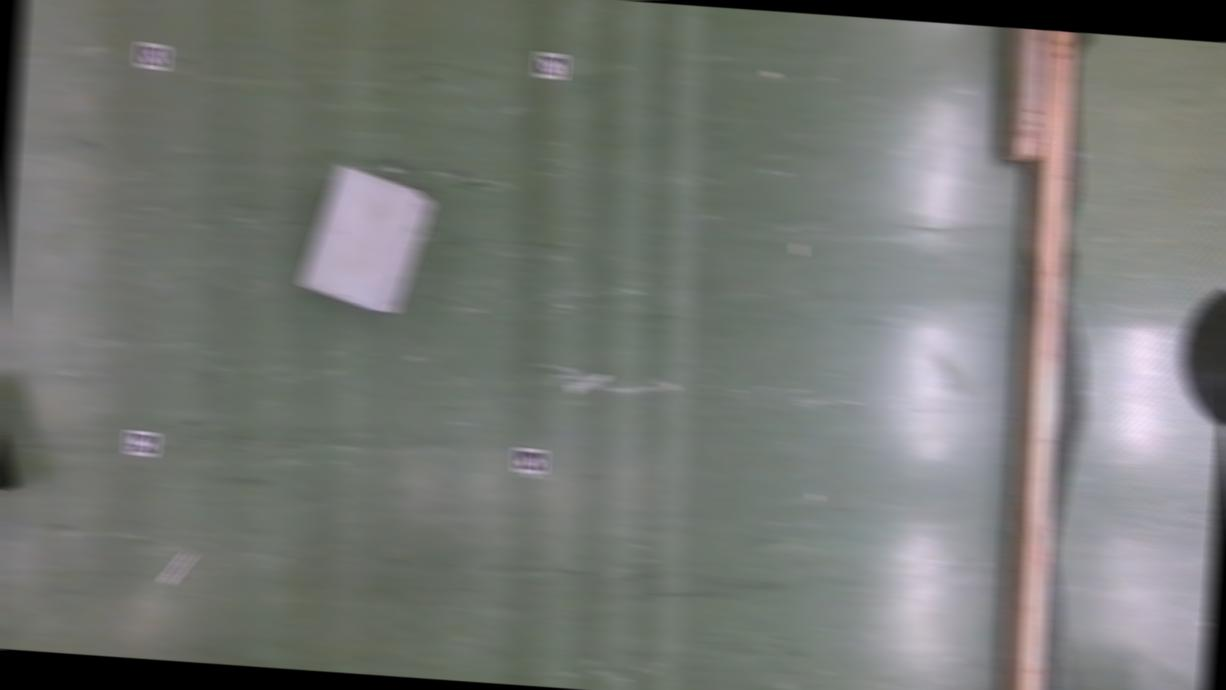probes: (558, 362, 624, 400), (164, 550, 191, 586)
rako: (296, 164, 436, 318), (0, 376, 26, 510)
